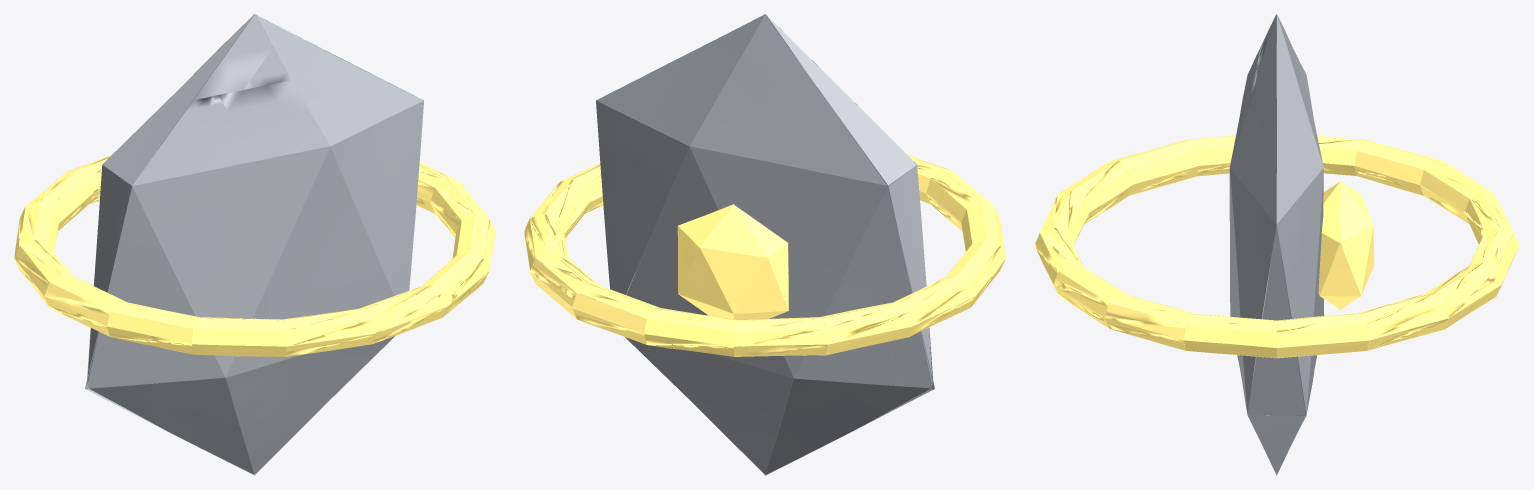
Rendered from shield.glb.
3 views of the same model, side by side, from view 1: azimuth 30°, elevation 25°; view 2: azimuth 150°, elevation 25°; view 3: azimuth 270°, elevation 25° (orthographic).
Parts seen in each view (by area): view 1: Shield; view 2: Shield; view 3: Shield.
Part boxes in pixels (<box>): Shield: <box>14,14,495,475</box>; Shield: <box>524,14,1005,475</box>; Shield: <box>1034,14,1519,475</box>.
Bounding box in the file's own units: 1.22 × 1.28 × 1.22.
